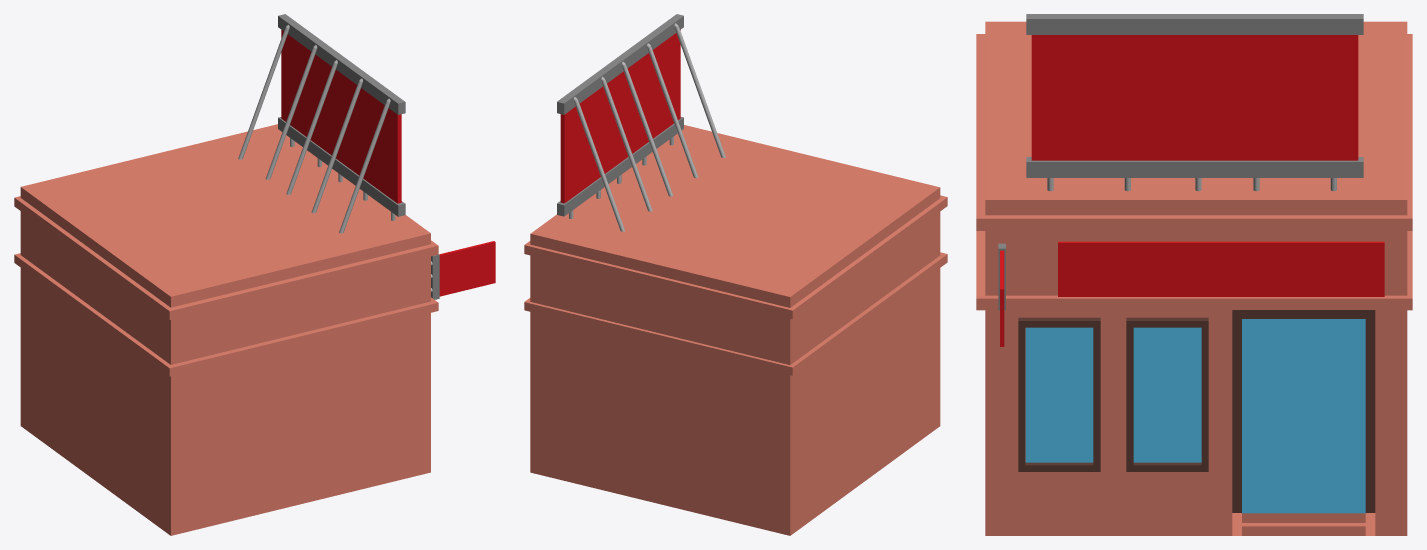
Rendered from Ohh.fbx.
3 renders of one model, left to right at view 1: azimuth 30°, elevation 25°; view 2: azimuth 150°, elevation 25°; view 3: azimuth 270°, elevation 25°, orthographic. The views are drawn at different scales.
Visible parts, largest first — view 1: Cube, Plane.001, Plane.004, Plane.003, Plane.002, Cylinder.005, Cylinder.008, Cylinder.007, Cylinder.006, Cylinder.009; view 2: Cube, Plane.001, Plane.003, Plane.002, Cylinder.007, Cylinder.005, Cylinder.008, Cylinder.009, Cylinder.006; view 3: Cube, Plane.001, Cube.004, Plane, Cube.005, Cube.006, Plane.003, Plane.002, Cube.002, Cube.001, Cube.003.
Boxes of the visible parts, x1,y1,x2,y2 form: Cube: (14, 124, 438, 535); Plane.001: (281, 30, 401, 203); Plane.004: (439, 241, 495, 296); Plane.003: (278, 14, 405, 114); Plane.002: (278, 117, 405, 216); Cylinder.005: (339, 98, 390, 233); Cylinder.008: (238, 24, 289, 159); Cylinder.007: (265, 45, 317, 179); Cylinder.006: (311, 78, 362, 213); Cylinder.009: (286, 60, 337, 194); Cube: (524, 125, 947, 535); Plane.001: (560, 30, 680, 203); Plane.003: (557, 14, 683, 114); Plane.002: (557, 117, 683, 216); Cylinder.007: (601, 76, 652, 211); Cylinder.005: (674, 23, 725, 157); Cylinder.008: (573, 97, 624, 231); Cylinder.009: (621, 61, 673, 196); Cylinder.006: (647, 43, 698, 178); Cube: (976, 21, 1412, 535); Plane.001: (1031, 35, 1358, 160); Cube.004: (1242, 319, 1365, 513); Plane: (1058, 241, 1384, 296); Cube.005: (1133, 327, 1201, 462); Cube.006: (1025, 327, 1093, 462); Plane.003: (1026, 14, 1363, 34); Plane.002: (1026, 157, 1363, 177); Cube.002: (1232, 310, 1375, 512); Cube.001: (1018, 317, 1100, 471); Cube.003: (1126, 317, 1208, 471).
Size of the model in its own units: 257 by 266 by 207.
